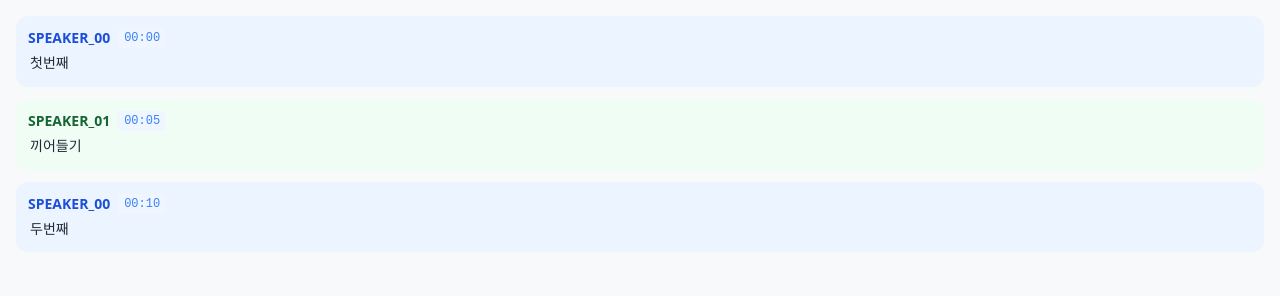
Test case: Transcript 라벨 모델 — 최종 산출물 검증 › 이 줄을 다른 화자로 재지정하면 그 줄만 다른 라벨의 정체성을 갖는다
This screenshot has width=1280, height=296.
Click the 2nd text titled "클릭하여 이름 변경": click(69, 204) top-left (28, 194), bottom-right (110, 214)
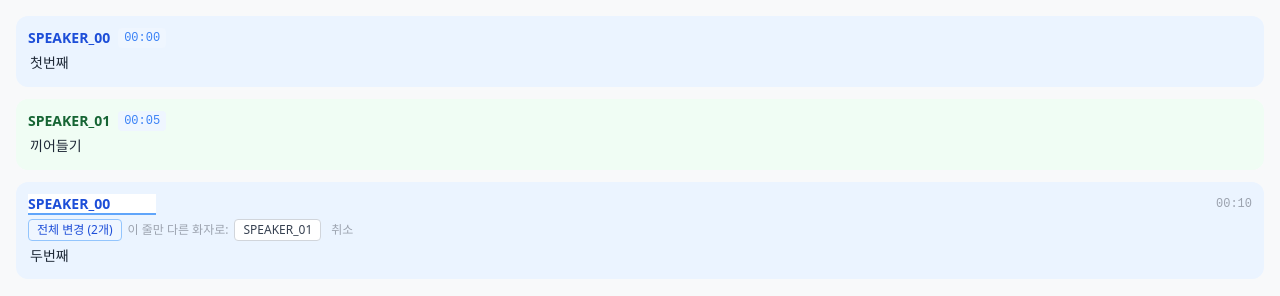
Note: "이 줄만 다른 화자로:" 목록에서 SPEAKER_01 버튼을 클릭 — 재지정.
Press the mouse on the button "SPEAKER_01": (278, 230) top-left (234, 218), bottom-right (321, 240)
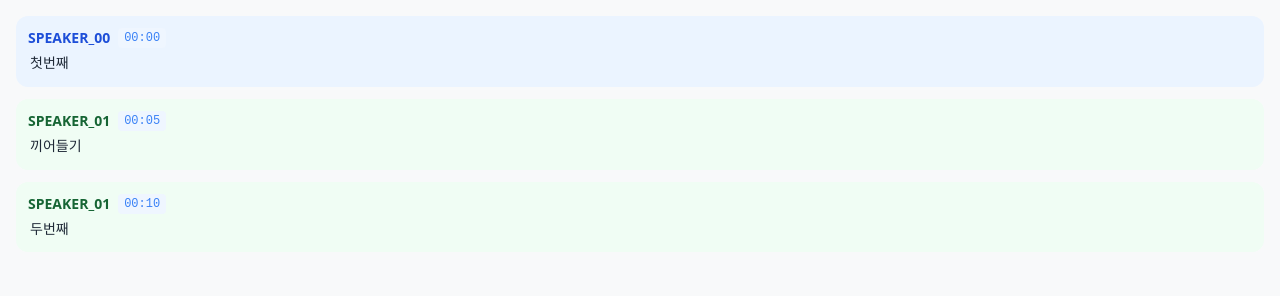
Click the 1st text titled "클릭하여 이름 변경": click(69, 121) top-left (28, 111), bottom-right (110, 131)
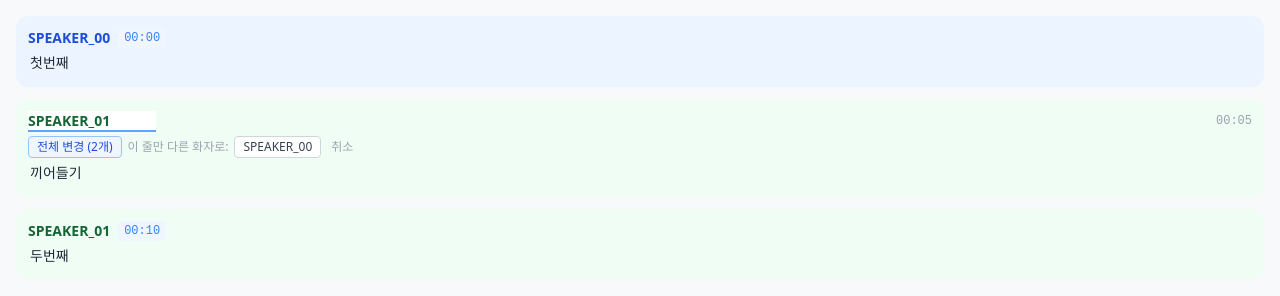
Replace the text in the field with placeholder "새 이름" with "이대리": (92, 121) top-left (28, 111), bottom-right (156, 132)
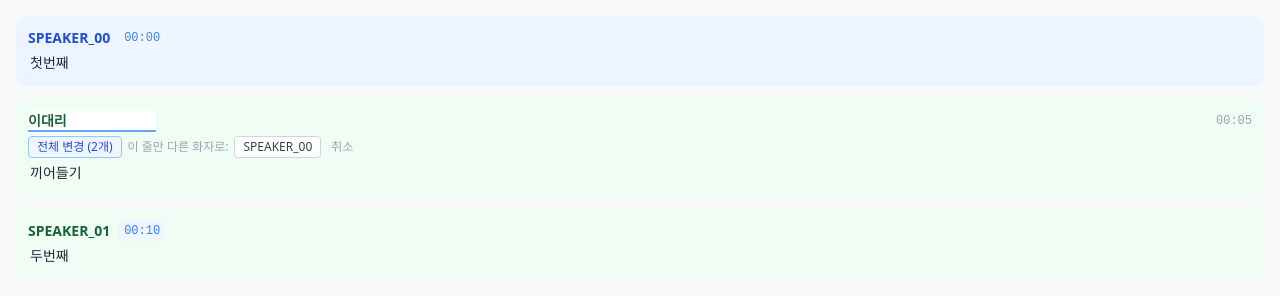
Press the mouse on the button "전체 변경 (2개)": (75, 147) top-left (28, 136), bottom-right (122, 158)
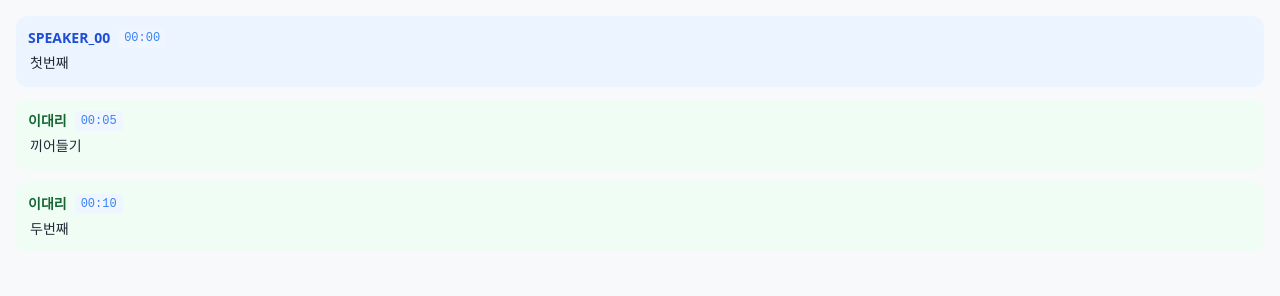
Now the 1st text "이대리" is shown, box top-left (28, 111), bottom-right (67, 131)
